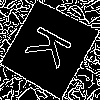K: (24, 24, 82, 75)
